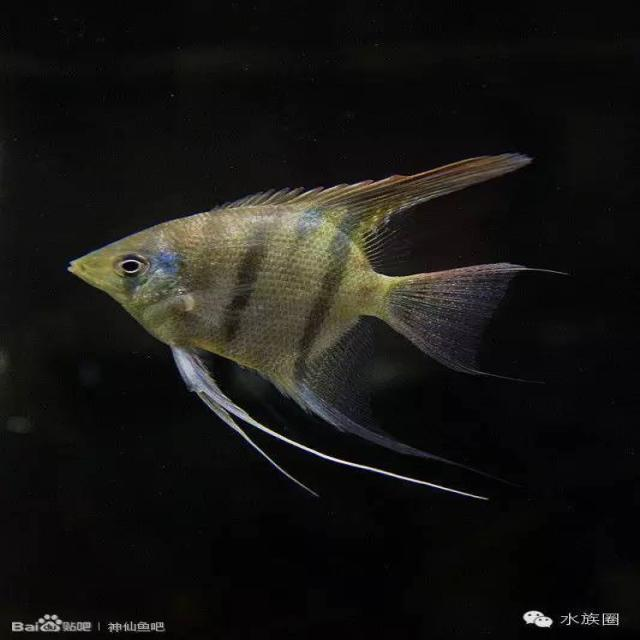AngelFish: (72, 147, 551, 502)
